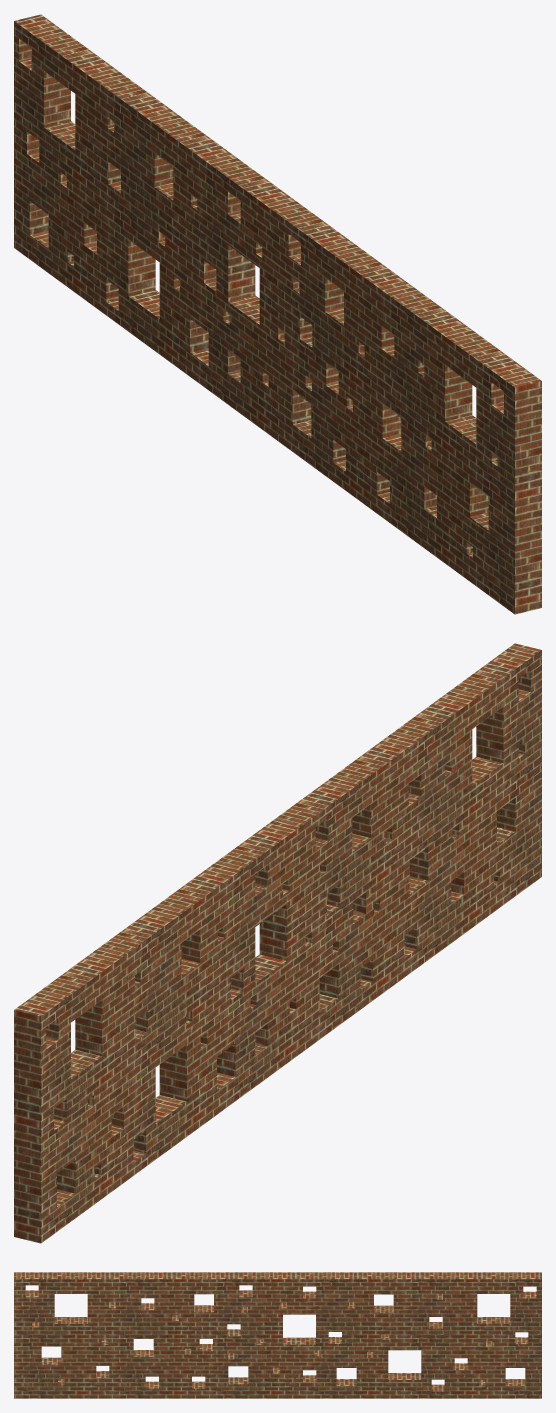
The model's file is brick_wall_hole_3.dae.
3 views of the same model, one above another, from view 1: azimuth 30°, elevation 25°; view 2: azimuth 150°, elevation 25°; view 3: azimuth 270°, elevation 25° (orthographic). The views are drawn at different scales.
Visible parts, largest first — view 1: SketchUp (×5); view 2: SketchUp (×5); view 3: SketchUp (×5).
Part boxes in pixels (x1,y1,x2,y2): SketchUp (×5): (14,14,541,614); SketchUp (×5): (14,643,541,1243); SketchUp (×5): (14,1272,541,1398).
Size of the model in its own units: 9.84 by 315 by 78.74.
